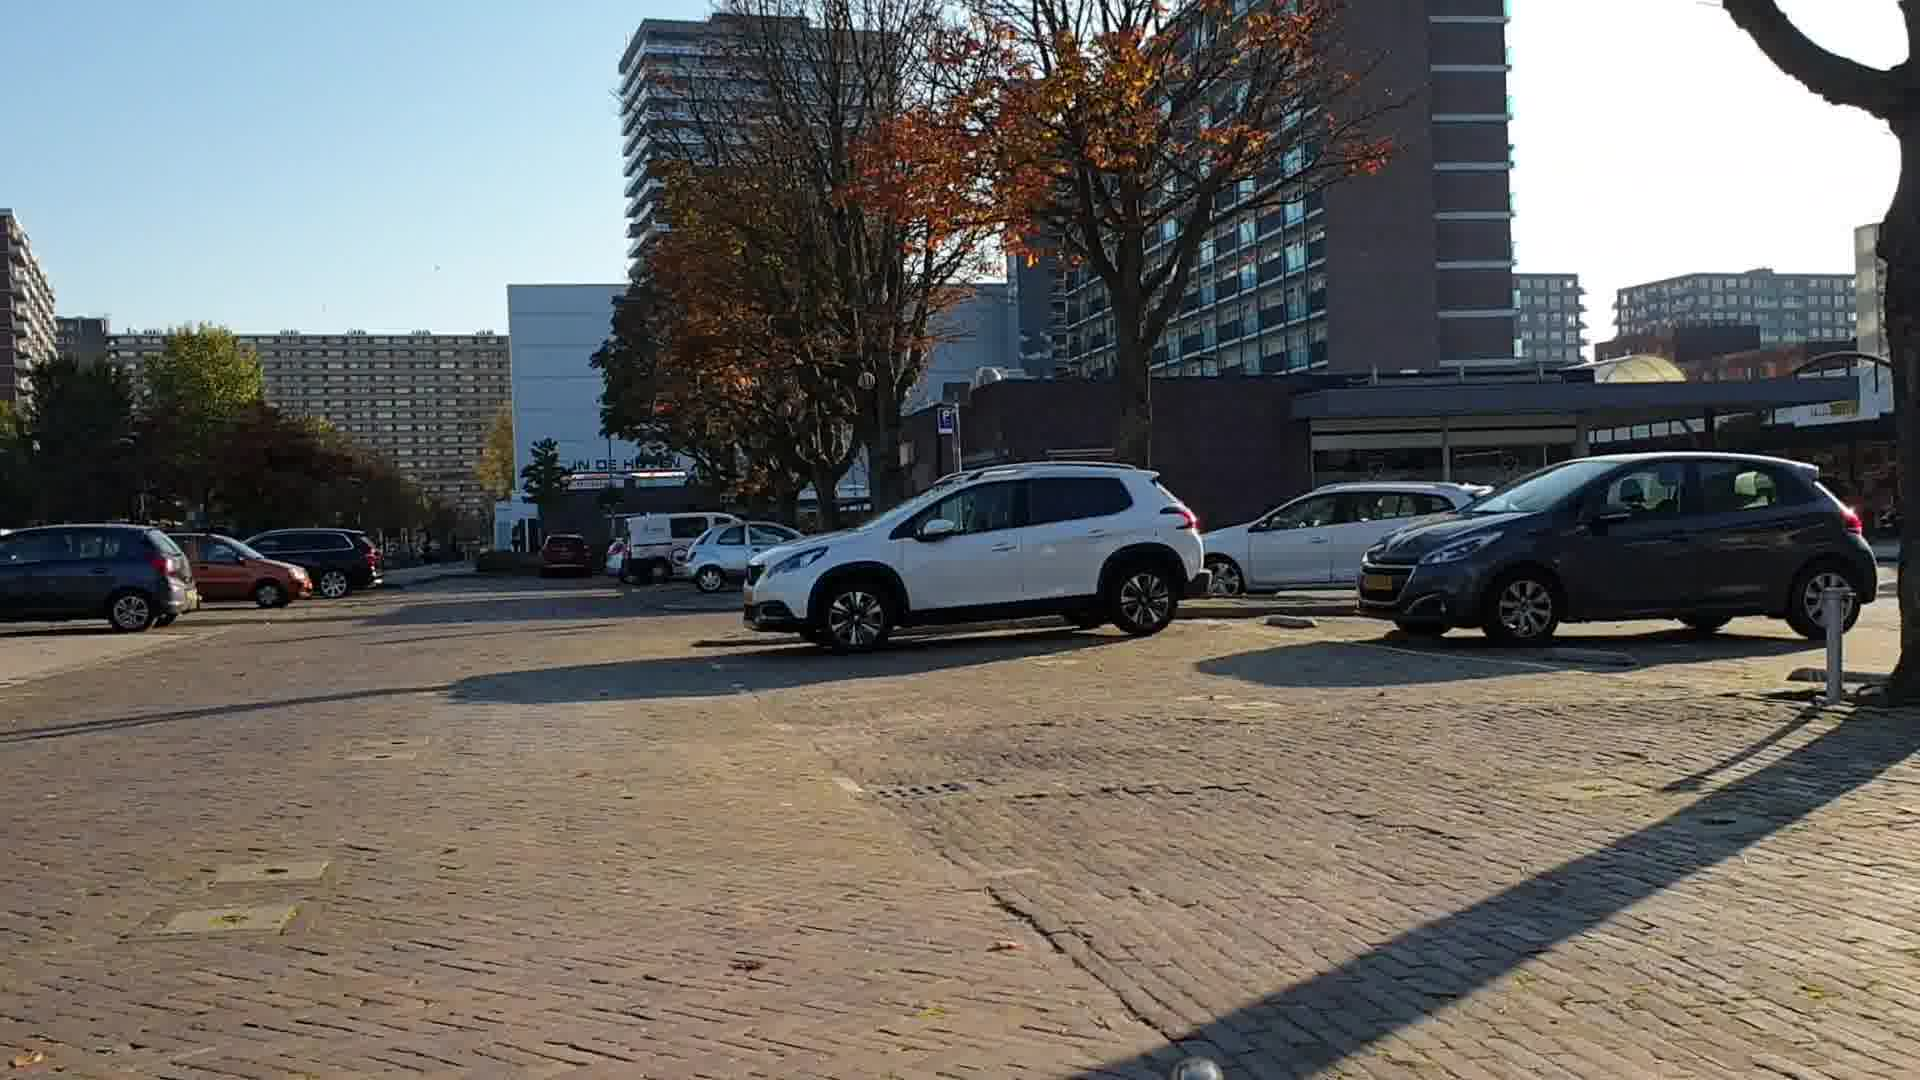car: (1360, 448, 1883, 661), (727, 469, 1215, 657)
